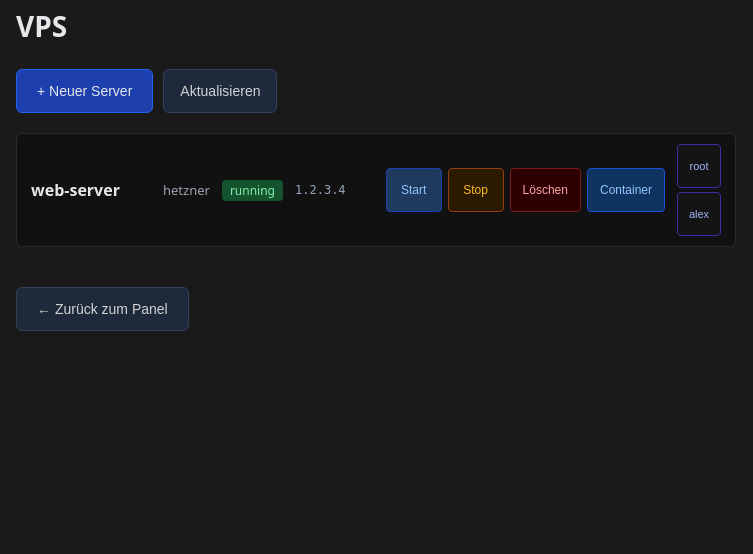
it: VpsViewDelete — AC9: type-to-confirm › Klick auf Löschen öffnet type-to-confirm-Dialog
Click the button with aria-label "web-server löschen".
click(545, 190)  # box [510,168,581,212]
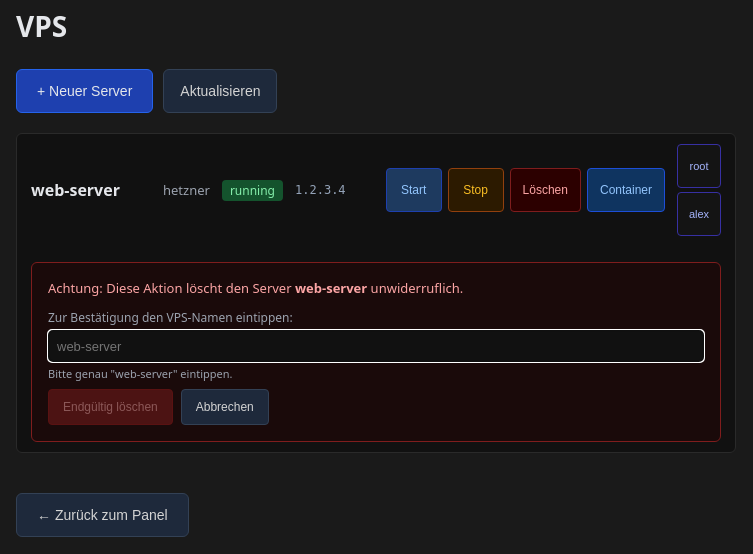
Result: the field labelled "Zur Bestätigung den VPS-Namen eintippen:" is shown at [48,330,704,362]
